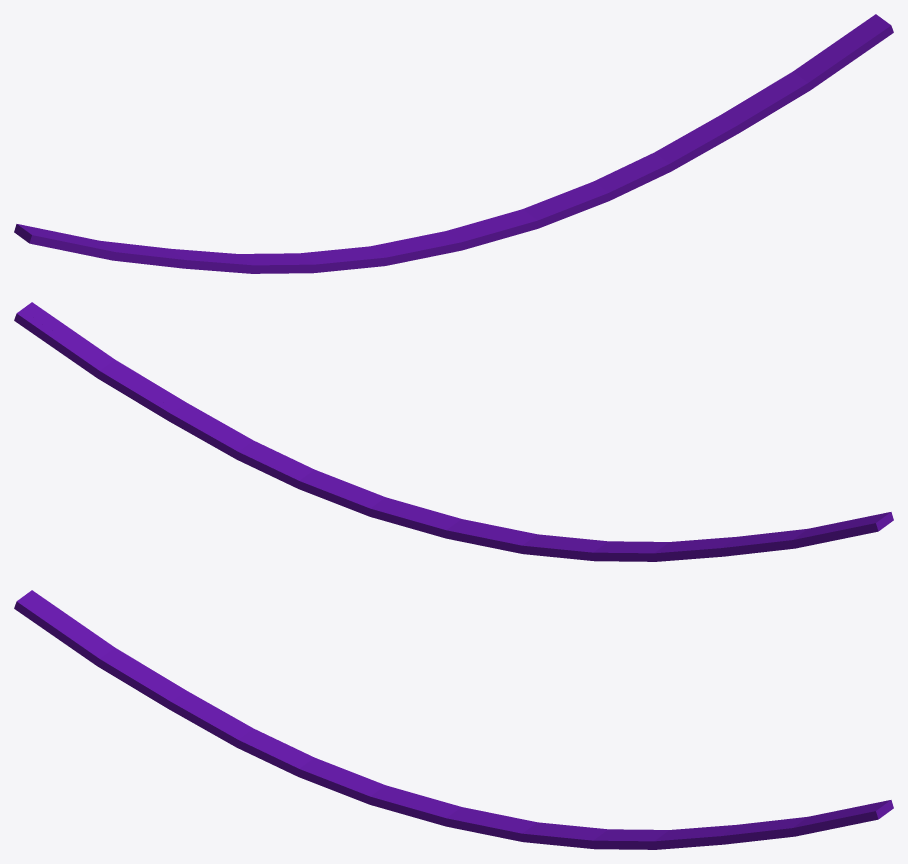
File: Tape_6_chunks.fbx
The picture shows the model from 3 angles, top to bottom: view 1: azimuth 30°, elevation 25°; view 2: azimuth 150°, elevation 25°; view 3: azimuth 330°, elevation 25°; orthographic projection.
Visible parts, largest first — view 1: Tape_6_1, Tape_6_2, Tape_6_0, Tape_6_3; view 2: Tape_6_2, Tape_6_3, Tape_6_1, Tape_6_0; view 3: Tape_6_2, Tape_6_1, Tape_6_0, Tape_6_3.
Part boxes in pixels (bbox=[...]): Tape_6_1: bbox=[514, 18, 893, 231]; Tape_6_2: bbox=[14, 224, 399, 273]; Tape_6_0: bbox=[383, 214, 528, 265]; Tape_6_3: bbox=[505, 14, 880, 215]; Tape_6_2: bbox=[510, 512, 893, 561]; Tape_6_3: bbox=[14, 309, 387, 517]; Tape_6_1: bbox=[22, 302, 408, 504]; Tape_6_0: bbox=[372, 504, 523, 553]; Tape_6_2: bbox=[14, 590, 397, 804]; Tape_6_1: bbox=[499, 803, 888, 849]; Tape_6_0: bbox=[371, 789, 526, 840]; Tape_6_3: bbox=[520, 800, 893, 834].
Bounding box in the file's own units: 776 × 103 × 24.08.
